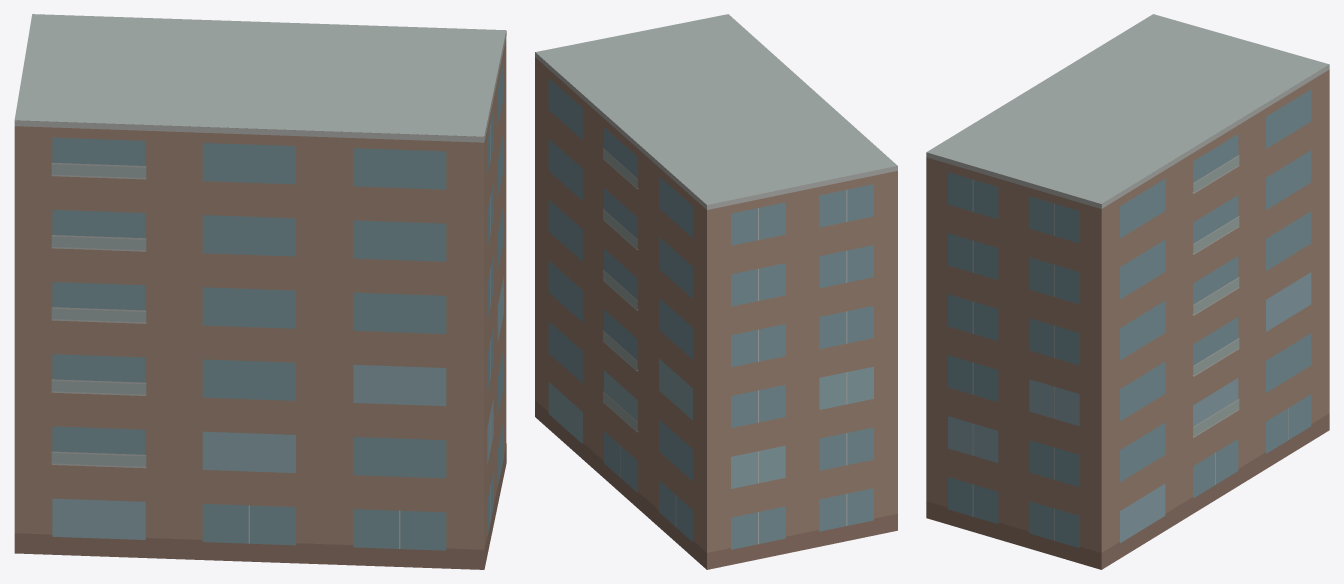
File: survey-upis-33003358.glb
3 views of the same model, side by side, from view 1: azimuth 30°, elevation 25°; view 2: azimuth 150°, elevation 25°; view 3: azimuth 270°, elevation 25° (orthographic). The views are drawn at different scales.
Visible parts, largest first — view 1: survey-upis-33003358.tmp; view 2: survey-upis-33003358.tmp; view 3: survey-upis-33003358.tmp.
Boxes of the visible parts, x1,y1,x2,y2 form: survey-upis-33003358.tmp: [14, 14, 506, 569]; survey-upis-33003358.tmp: [535, 14, 897, 569]; survey-upis-33003358.tmp: [926, 14, 1329, 569].
Bounding box in the file's own units: 19.96 × 17.9 × 17.9.
